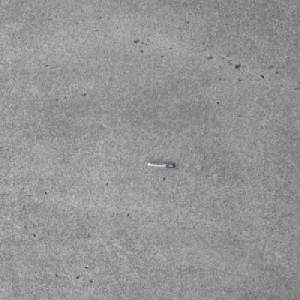Battery: (146, 161, 175, 168)
